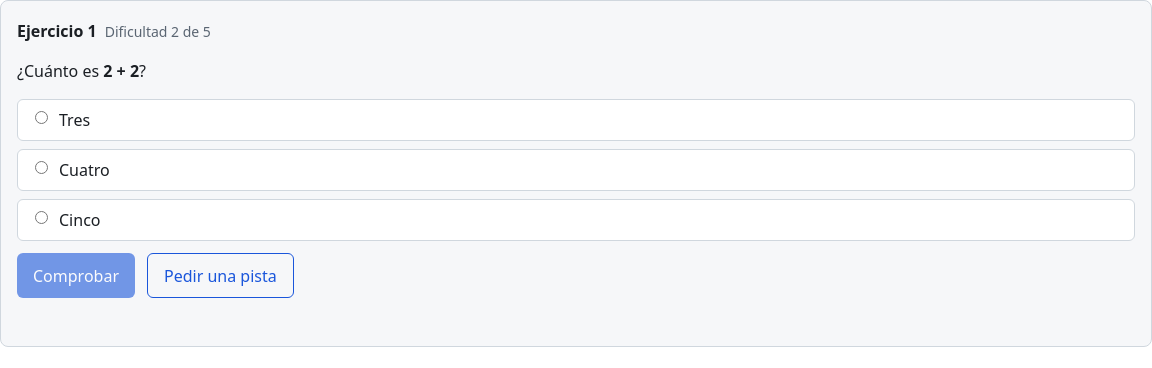
ExerciseCard › multiple choice › says "not yet" and hides the explanation when the answer is wrong
The image size is (1152, 368).
Click the radio button labelled "Tres" at (42, 118), box [35,111,48,124]
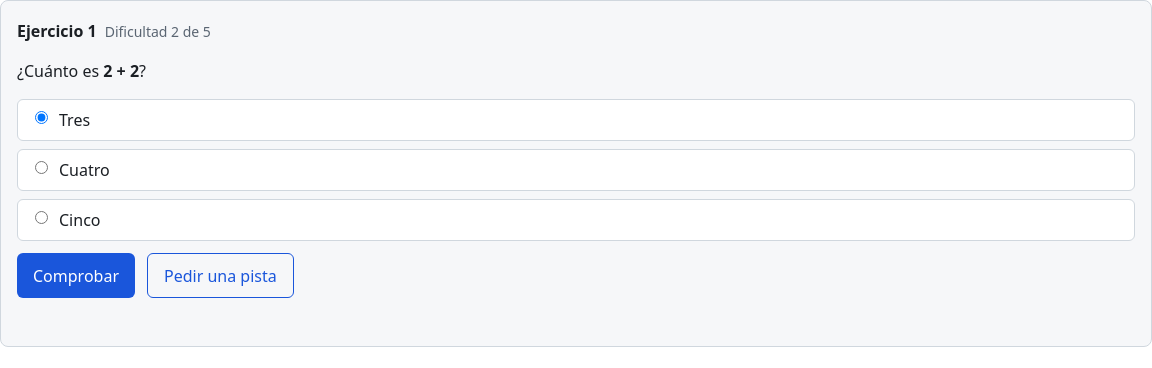
Click the button "Comprobar" at (76, 276), box [17,253,135,298]
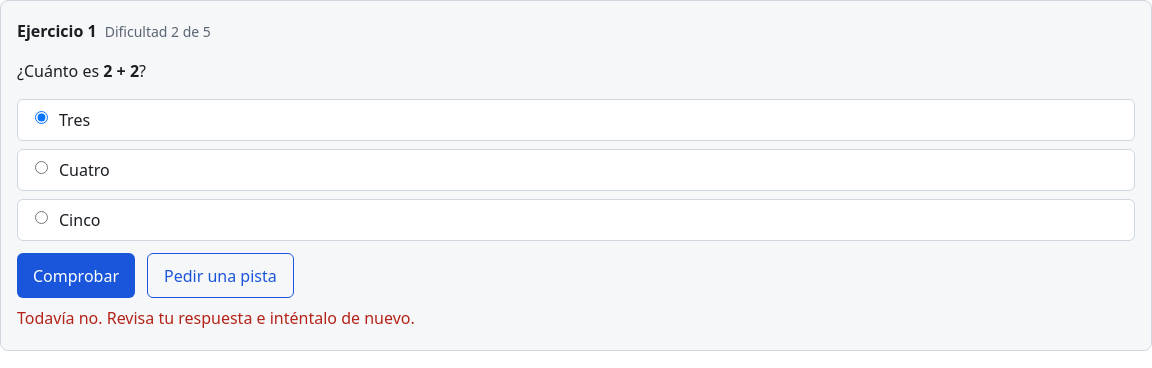
Expected: the text "Todavía no." is shown, [17,307,415,329]
